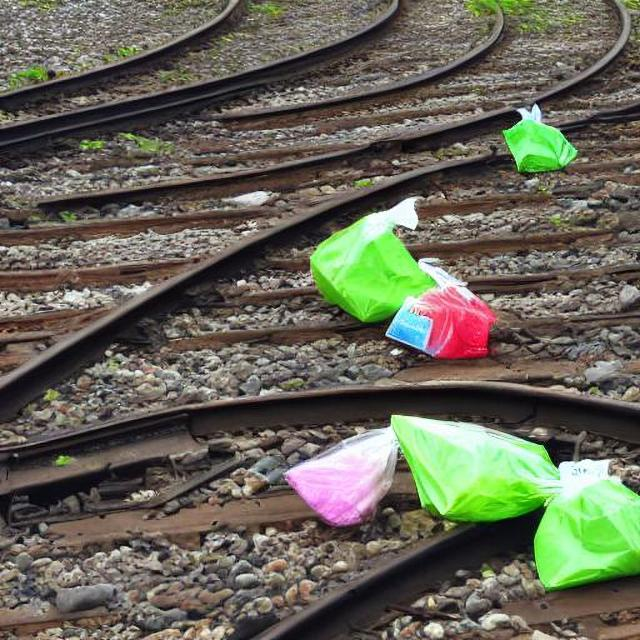plastic bag: (308, 196, 456, 322), (392, 416, 561, 522), (527, 471, 638, 591), (271, 432, 391, 524), (387, 282, 497, 360), (501, 110, 576, 171)
